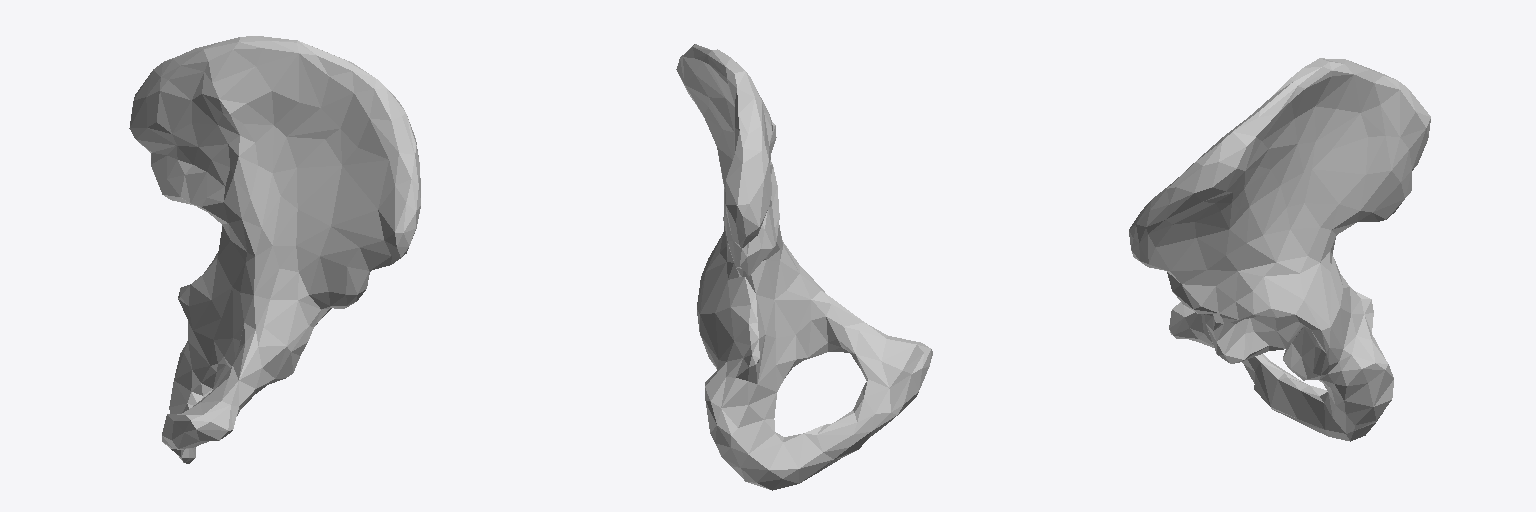
File: pelvis.obj
3 views of the same model, side by side, from view 1: azimuth 30°, elevation 25°; view 2: azimuth 150°, elevation 25°; view 3: azimuth 270°, elevation 25° (orthographic).
Bounding box in the file's own units: 1.33 × 2.15 × 1.47.